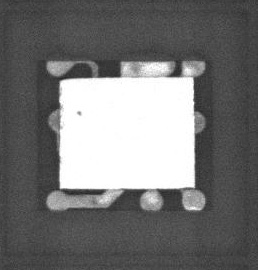DIE_INK: (72, 114, 79, 122)
